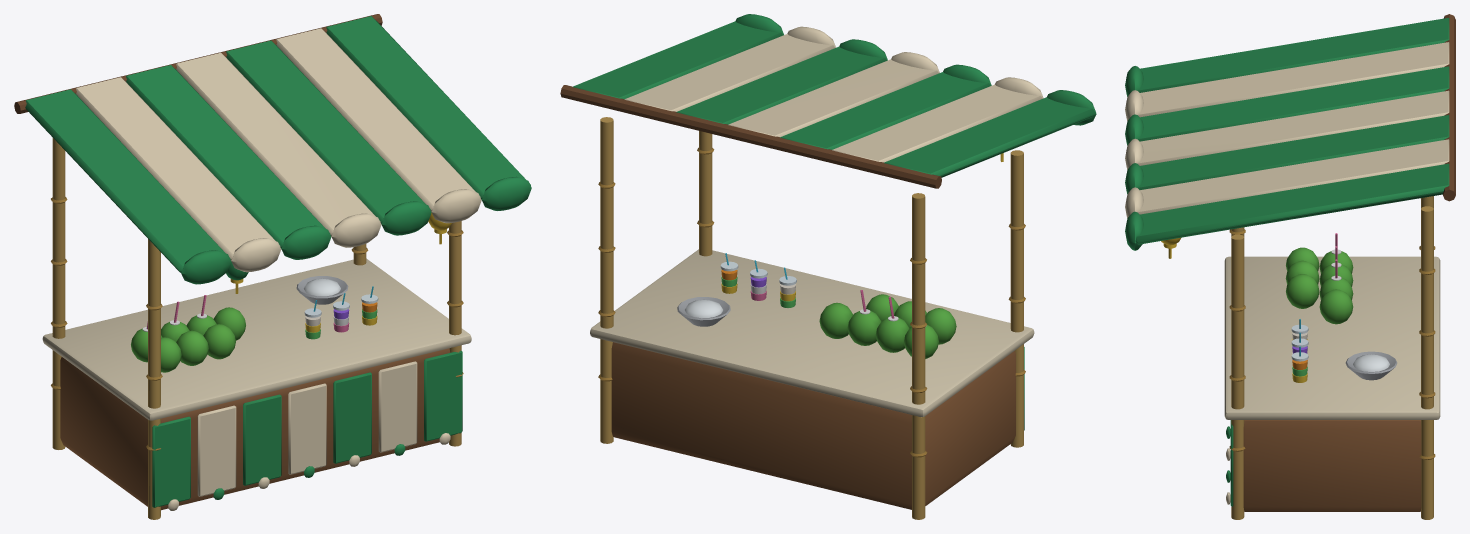
The model's file is pp-stall-cout.glb.
3 views of the same model, side by side, from view 1: azimuth 30°, elevation 25°; view 2: azimuth 150°, elevation 25°; view 3: azimuth 270°, elevation 25° (orthographic). The views are drawn at different scales.
Size of the model in its own units: 3.2 by 2.91 by 2.55.
